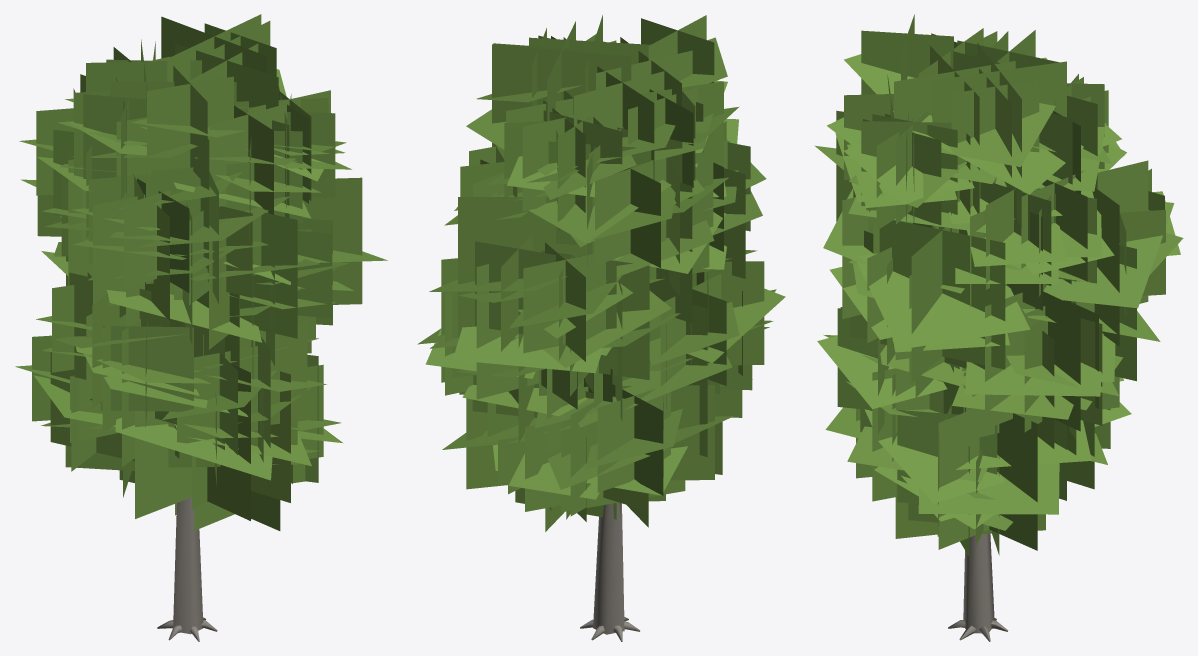
Rendered from tilleul_4_f2_loin.glb.
The picture shows the model from 3 angles, left to right: view 1: azimuth 30°, elevation 25°; view 2: azimuth 150°, elevation 25°; view 3: azimuth 270°, elevation 25°; orthographic projection.
Parts seen in each view (by area): view 1: Tilleul_T4_f2_Leger_Loin; view 2: Tilleul_T4_f2_Leger_Loin; view 3: Tilleul_T4_f2_Leger_Loin.
Boxes of the visible parts, left/top/right/bottom form: Tilleul_T4_f2_Leger_Loin: left=15, top=14, right=387, bottom=641; Tilleul_T4_f2_Leger_Loin: left=417, top=15, right=785, bottom=641; Tilleul_T4_f2_Leger_Loin: left=814, top=14, right=1183, bottom=641.
Size of the model in its own units: 9.77 by 17.92 by 10.32.
